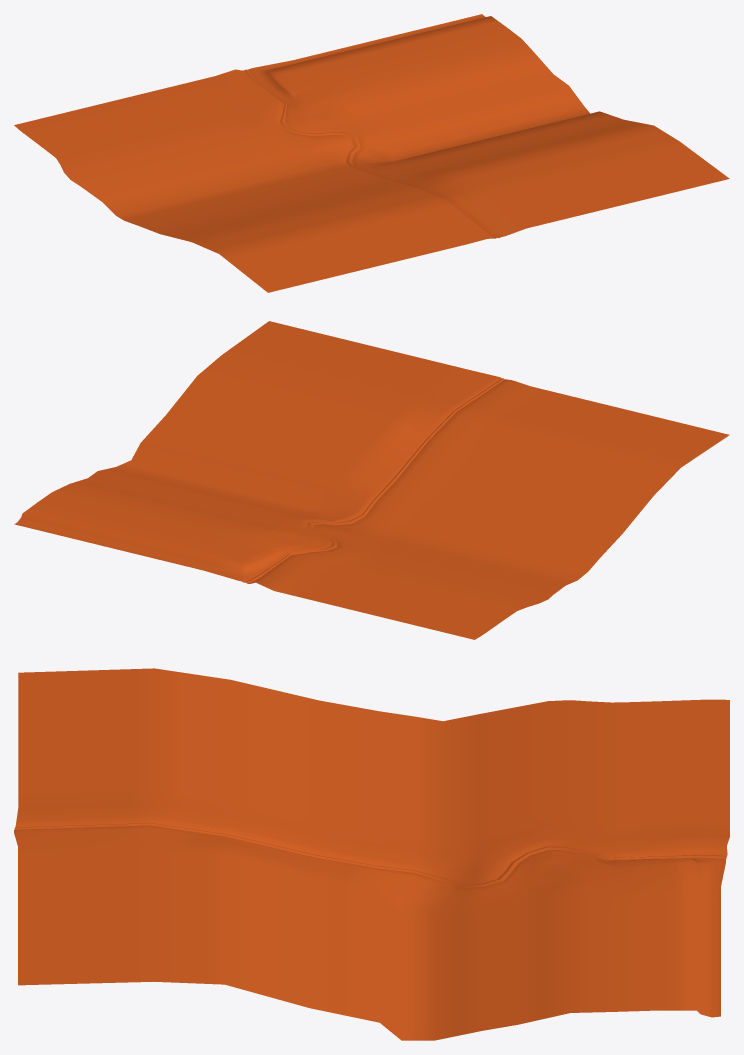
File: path.fbx
3 renders of one model, top to bottom at view 1: azimuth 30°, elevation 25°; view 2: azimuth 150°, elevation 25°; view 3: azimuth 270°, elevation 25°, orthographic. The views are drawn at different scales.
Parts seen in each view (by area): view 1: Plane.008; view 2: Plane.008; view 3: Plane.008.
Boxes of the visible parts, box(x1,y1,x2,y2) form: Plane.008: box(14, 14, 729, 292); Plane.008: box(14, 321, 729, 639); Plane.008: box(14, 668, 729, 1040).
Bounding box in the file's own units: 86554 × 7278 × 80936.
